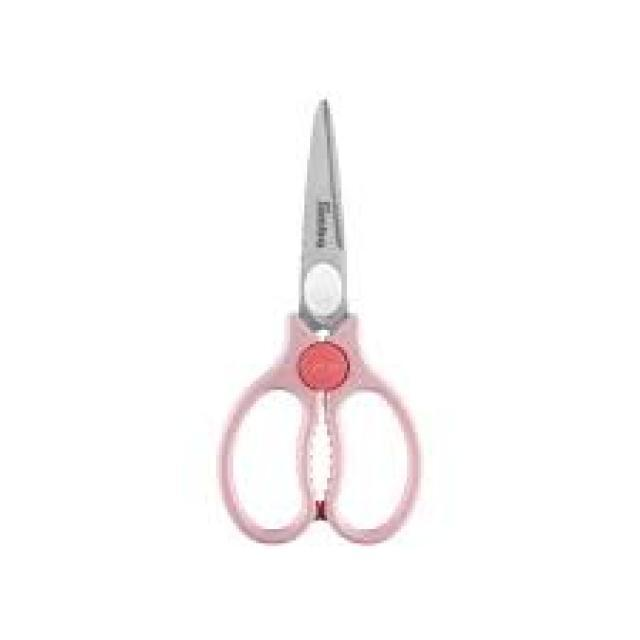scissor: (216, 96, 422, 542)
